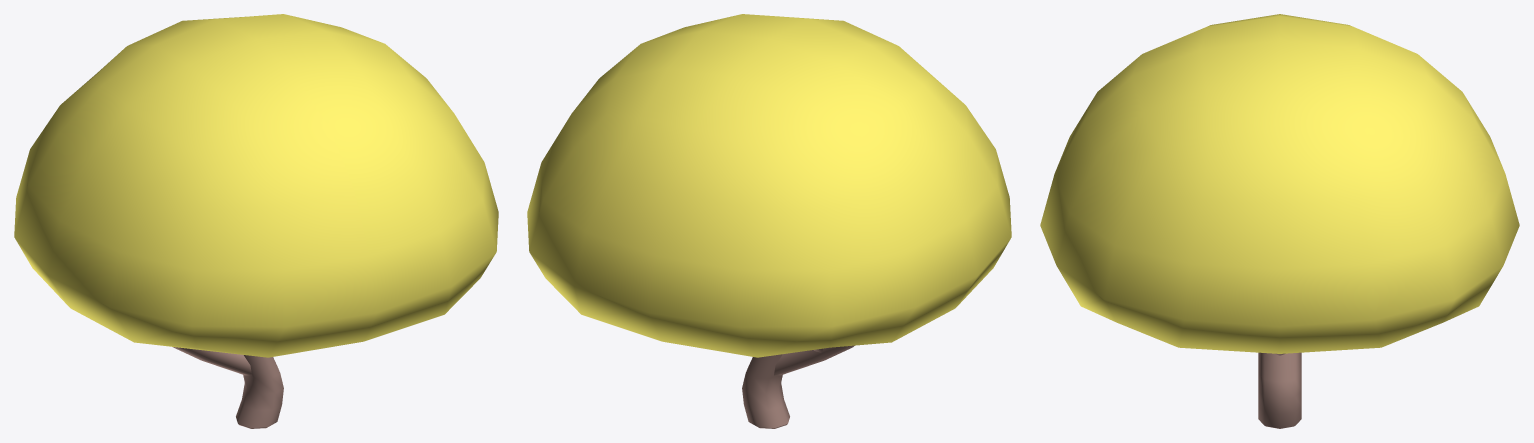
The model's file is Farm_10_Bush_1.glb.
The picture shows the model from 3 angles, left to right: view 1: azimuth 30°, elevation 25°; view 2: azimuth 150°, elevation 25°; view 3: azimuth 270°, elevation 25°; orthographic projection.
Parts seen in each view (by area): view 1: Farm_10_Bush_1; view 2: Farm_10_Bush_1; view 3: Farm_10_Bush_1.
Part boxes in pixels (x1,y1,x2,y2): Farm_10_Bush_1: (14, 14, 498, 428); Farm_10_Bush_1: (527, 14, 1011, 428); Farm_10_Bush_1: (1040, 14, 1519, 428).
Bounding box in the file's own units: 1.82 × 1.59 × 1.82.
1 material, 1 textured.
